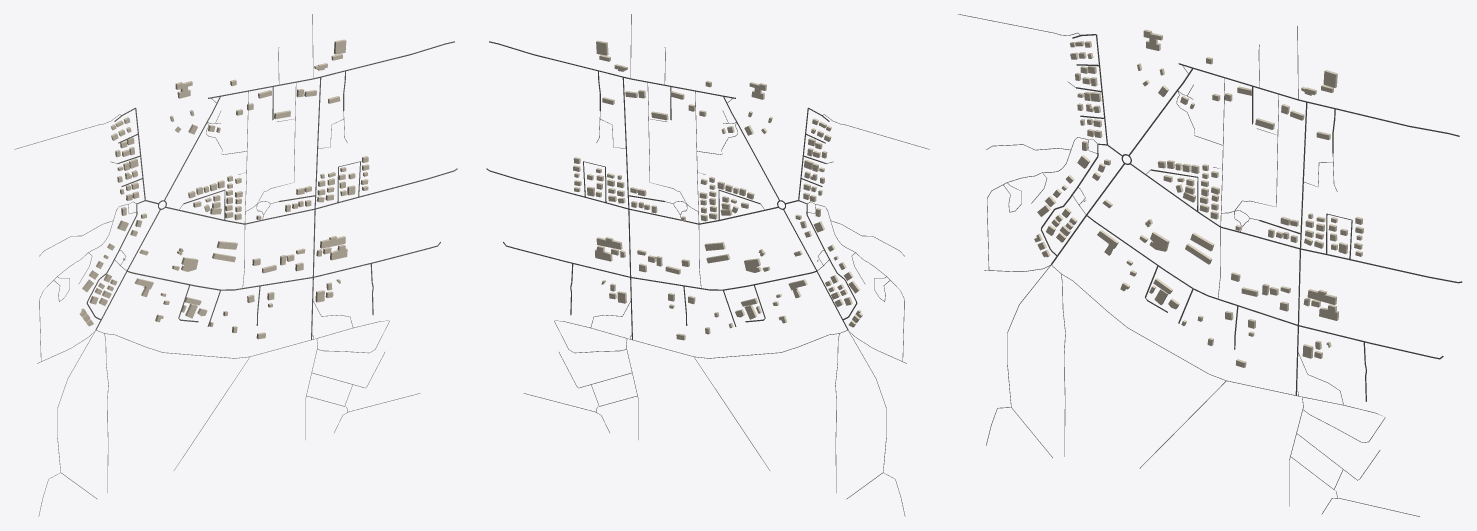
File: historic-palestine-07_28_3486_3221.glb
The picture shows the model from 3 angles, left to right: view 1: azimuth 30°, elevation 25°; view 2: azimuth 150°, elevation 25°; view 3: azimuth 330°, elevation 25°; orthographic projection. The views are drawn at different scales.
Visible parts, largest first — view 1: Road אגוז, Road המחרשה; view 2: Road אגוז, Road המחרשה; view 3: Road אגוז, Road המחרשה, Road התלתן, Road המנים.
Boxes of the visible parts, x1=… form: Road אגוז: x1=127, y1=242, x2=440, y2=290; Road המחרשה: x1=165, y1=168, x2=457, y2=224; Road אגוז: x1=503, y1=242, x2=816, y2=290; Road המחרשה: x1=486, y1=168, x2=778, y2=224; Road אגוז: x1=1087, y1=215, x2=1443, y2=359; Road המחרשה: x1=1130, y1=163, x2=1462, y2=283; Road התלתן: x1=1295, y1=102, x2=1307, y2=395; Road המנים: x1=1178, y1=63, x2=1459, y2=136.
Bounding box in the file's own units: 1246 × 1172 × 8.7.
